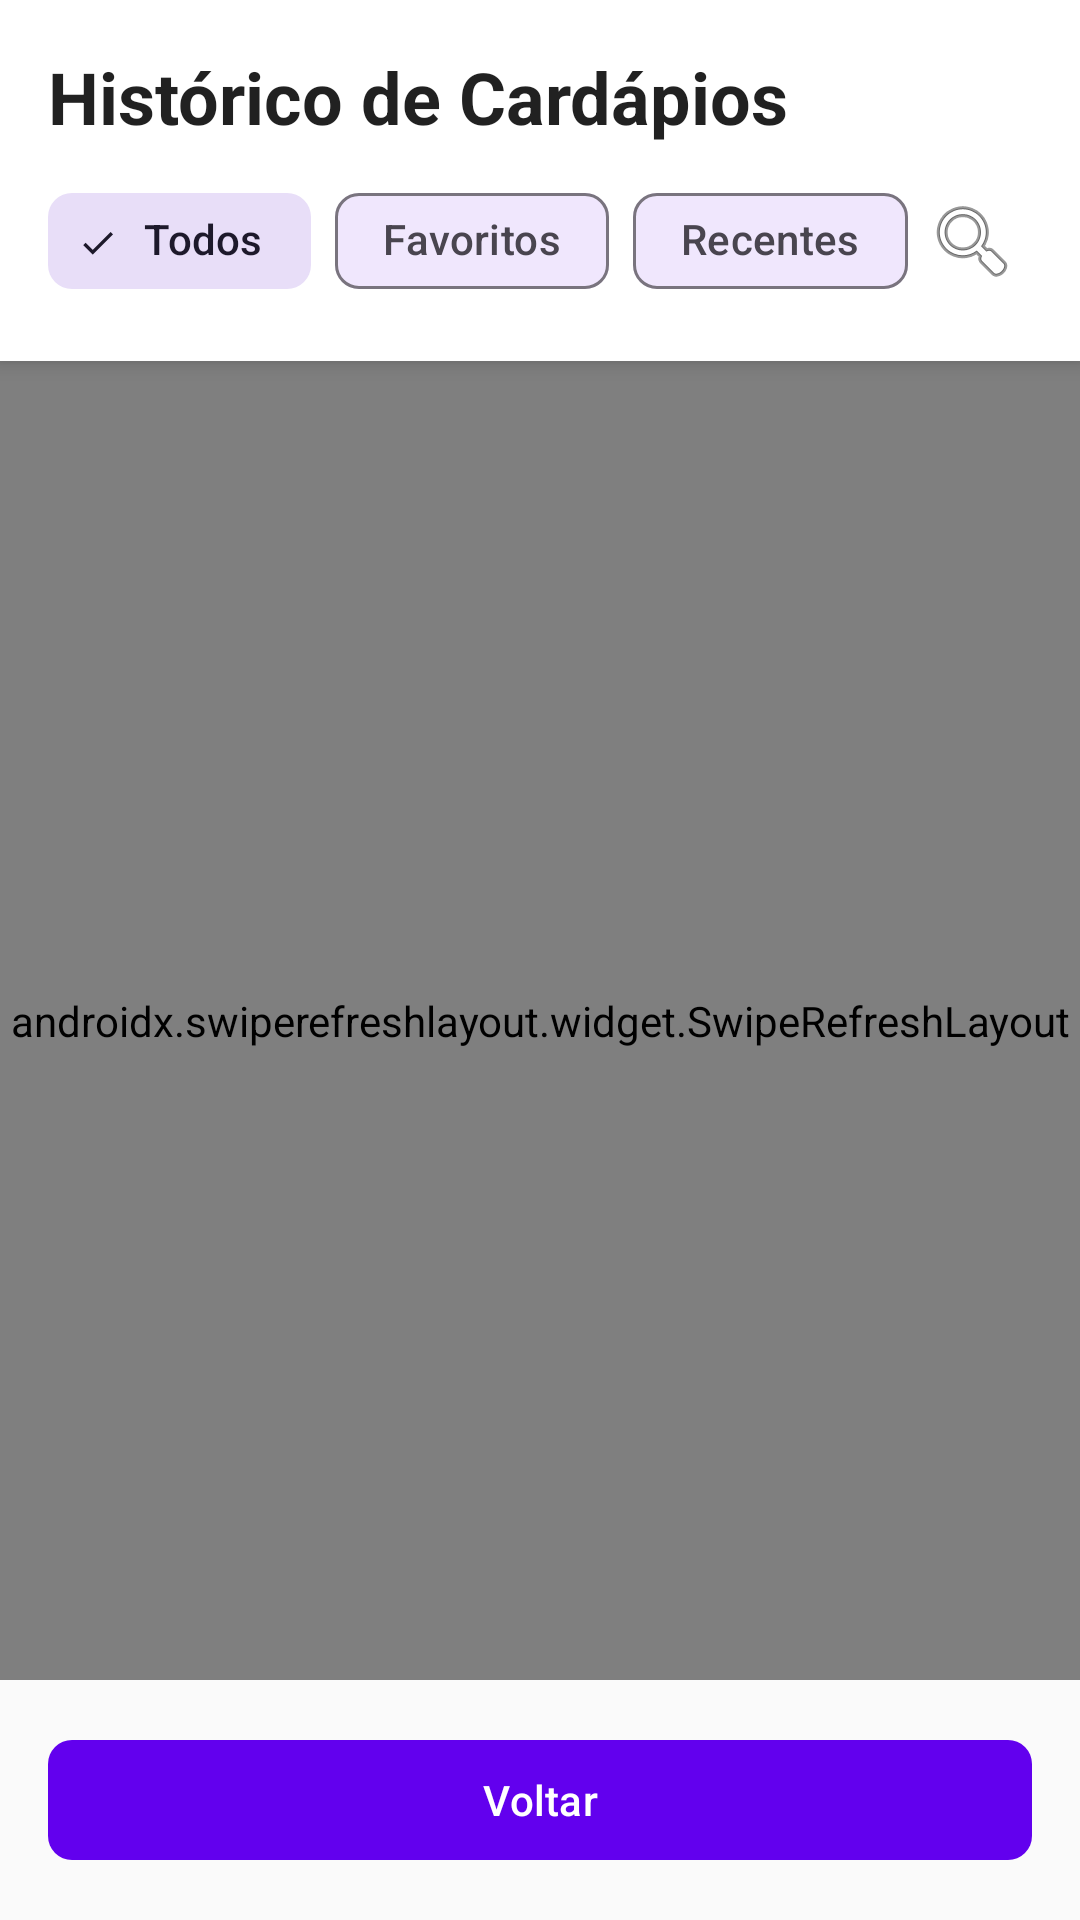

Named icons in this screenshot (1080w x 1920h) and their centers, (x,y):
Buscar: (972,241)
